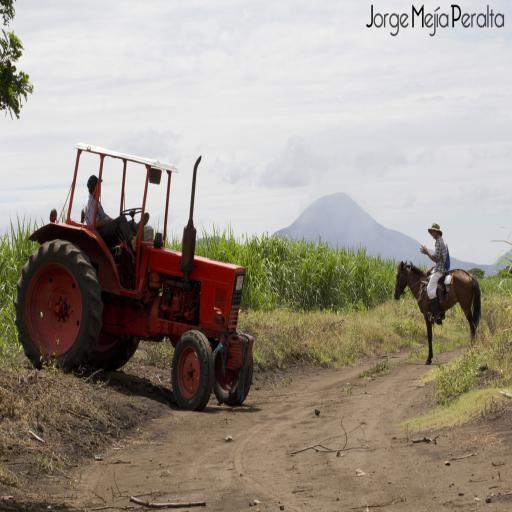horse: (390, 255, 482, 366)
